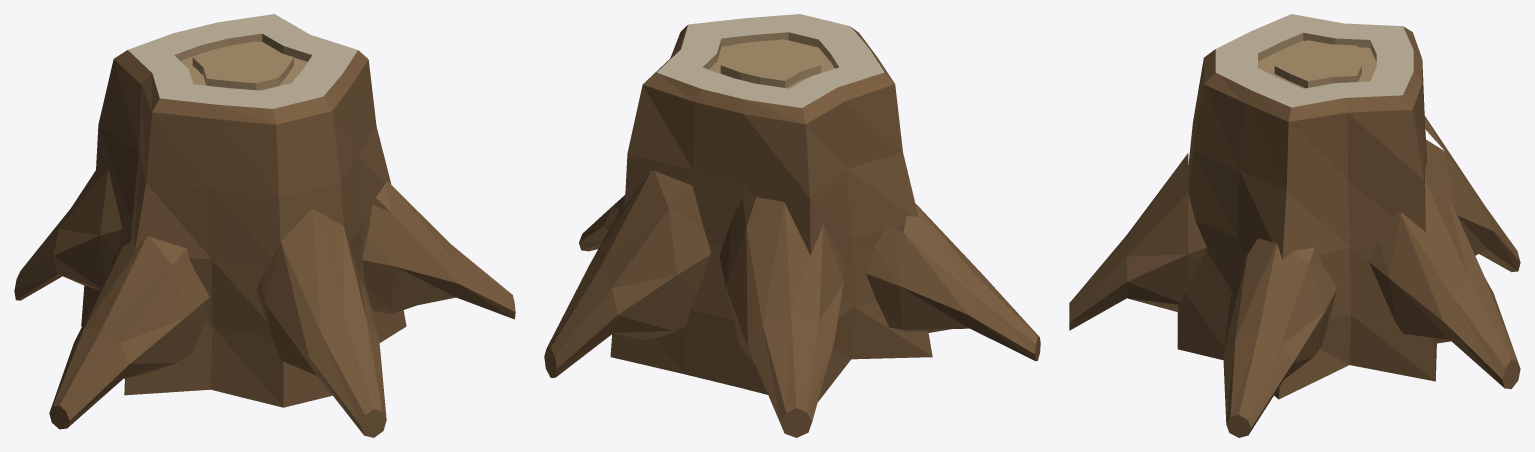
File: tree-stump-ec3f48.glb
The picture shows the model from 3 angles, left to right: view 1: azimuth 30°, elevation 25°; view 2: azimuth 150°, elevation 25°; view 3: azimuth 270°, elevation 25°; orthographic projection. The views are drawn at different scales.
Parts seen in each view (by area): view 1: stump-mesh; view 2: stump-mesh; view 3: stump-mesh.
Boxes of the visible parts, left/top/right/bottom form: stump-mesh: left=14, top=14, right=515, bottom=437; stump-mesh: left=544, top=14, right=1040, bottom=437; stump-mesh: left=1069, top=14, right=1520, bottom=437.
Bounding box in the file's own units: 0.8206 × 0.48 × 0.7209.
